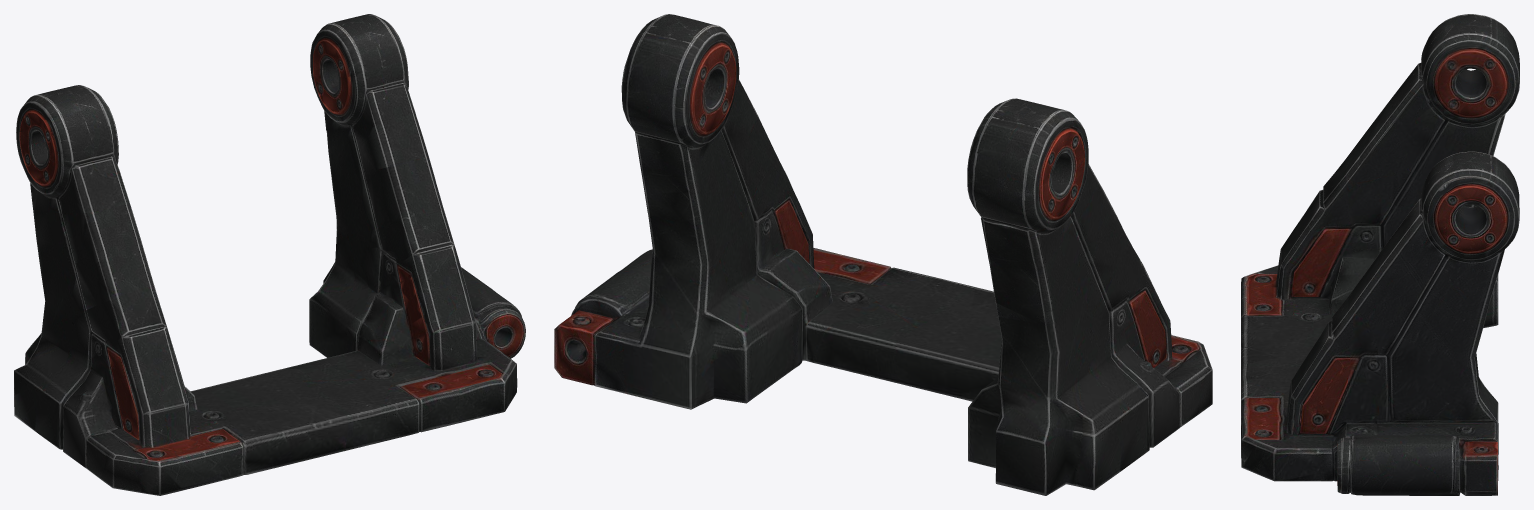
Rendered from new_saw_mount.glb.
3 views of the same model, side by side, from view 1: azimuth 30°, elevation 25°; view 2: azimuth 150°, elevation 25°; view 3: azimuth 270°, elevation 25° (orthographic). The views are drawn at different scales.
Visible parts, largest first — view 1: mesh_node; view 2: mesh_node; view 3: mesh_node.
Part boxes in pixels (x1,y1,x2,y2): mesh_node: (14, 14, 525, 495); mesh_node: (554, 14, 1212, 495); mesh_node: (1241, 14, 1519, 495).
Bounding box in the file's own units: 1.9 × 1.25 × 1.07.
1 material, 1 textured.
